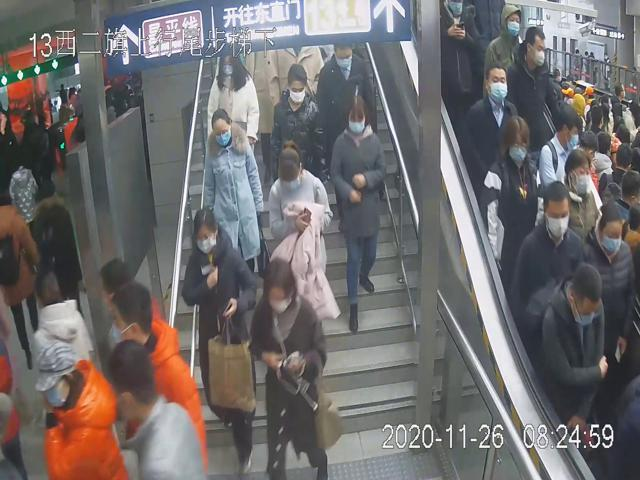person: (182, 206, 257, 477), (250, 257, 337, 480), (327, 90, 386, 334), (265, 139, 335, 324), (511, 179, 583, 340), (200, 105, 264, 272), (483, 113, 541, 277), (464, 59, 516, 189), (269, 63, 324, 180), (205, 48, 260, 162), (319, 38, 372, 139)
